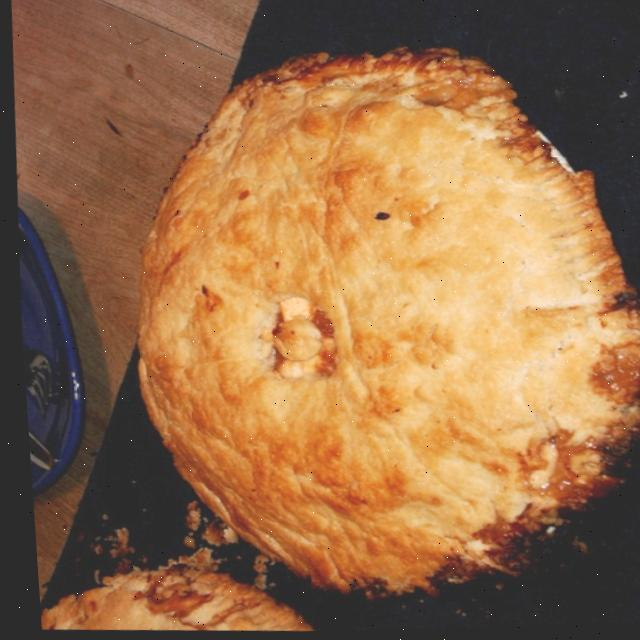炸货点心: (15, 7, 640, 640)
蛋糕甜品: (15, 7, 640, 640)
